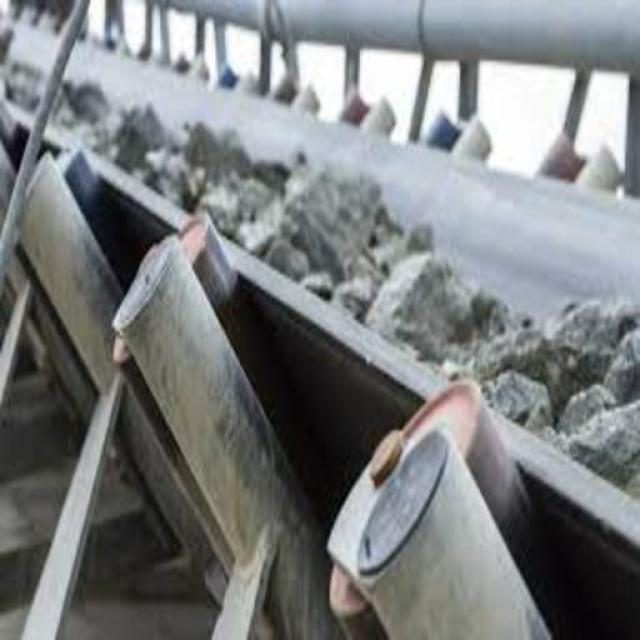conveyor: (0, 17, 640, 524)
